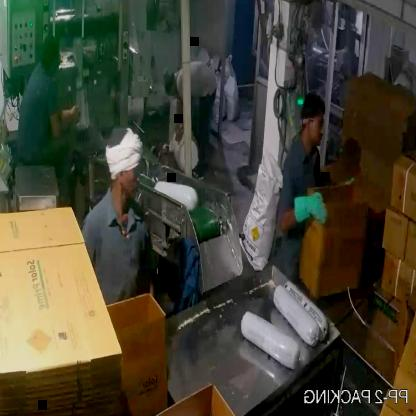glove: (292, 186, 331, 233)
no_glove: (48, 102, 75, 140)
